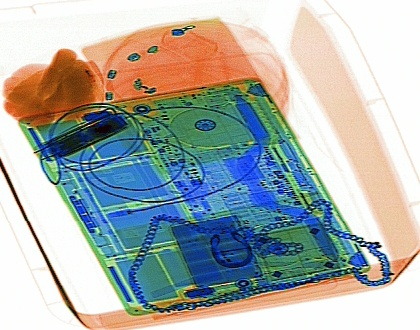powerbank: (167, 205, 278, 292)
